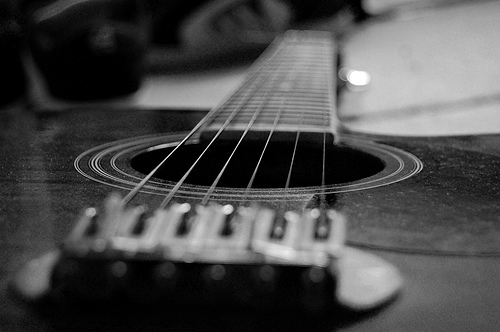guitar: (1, 28, 500, 332)
